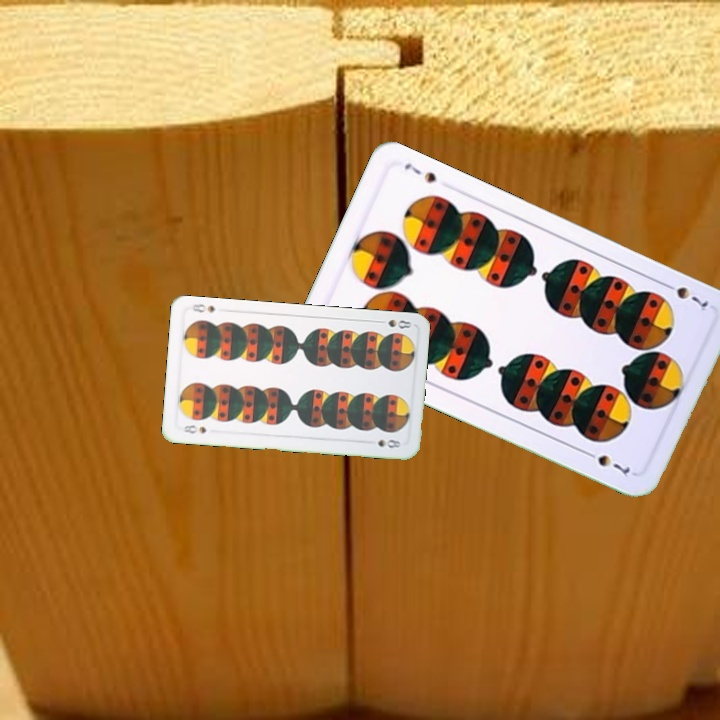S7: (658, 278, 711, 314)
S8: (373, 316, 413, 331), (179, 421, 209, 436)
